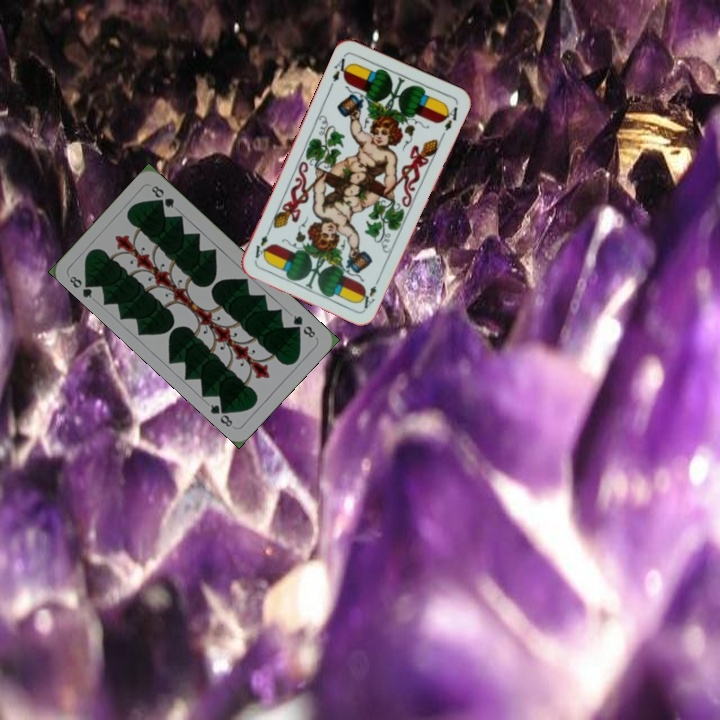EA: (326, 51, 352, 90), (357, 273, 383, 312)
G8: (65, 272, 97, 301), (289, 311, 318, 341)
